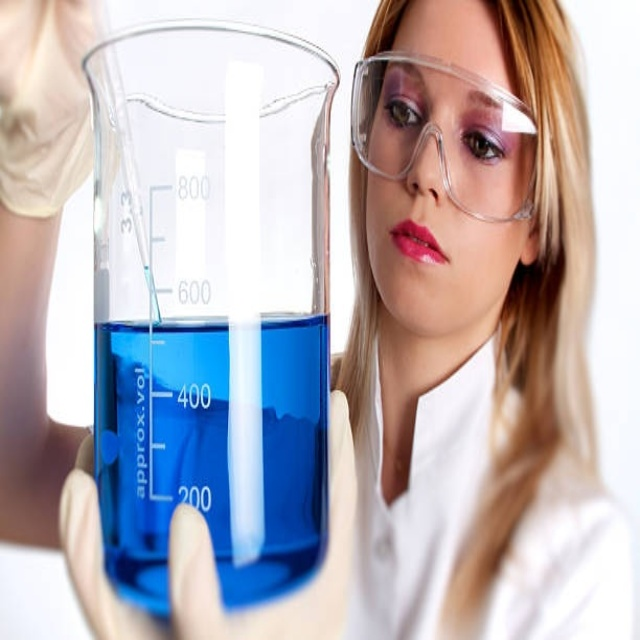Gafas: (350, 52, 541, 222)
Guantes: (63, 375, 362, 630)
Sin_mascara: (378, 207, 464, 309)
